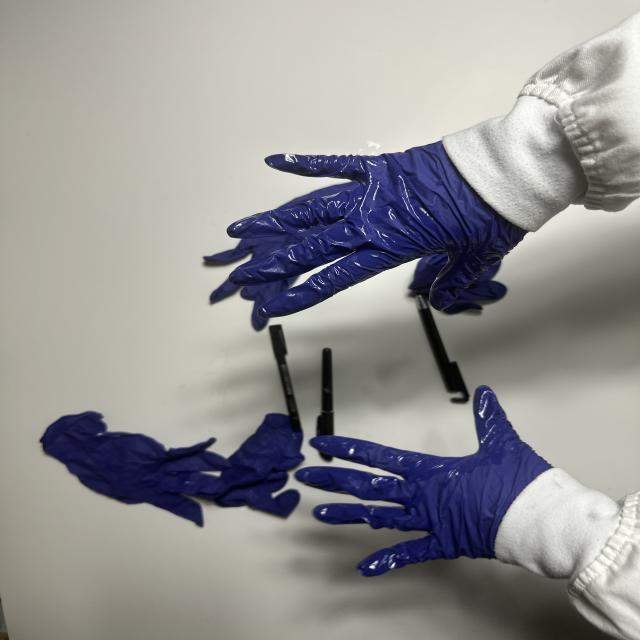gloves_contaminated: (228, 142, 526, 316), (296, 386, 551, 576)
